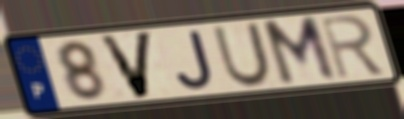8: (52, 39, 110, 103)
J: (174, 28, 217, 92)
M: (258, 13, 341, 89)
R: (317, 12, 389, 81)
U: (210, 20, 274, 89)
V: (95, 29, 156, 101)
